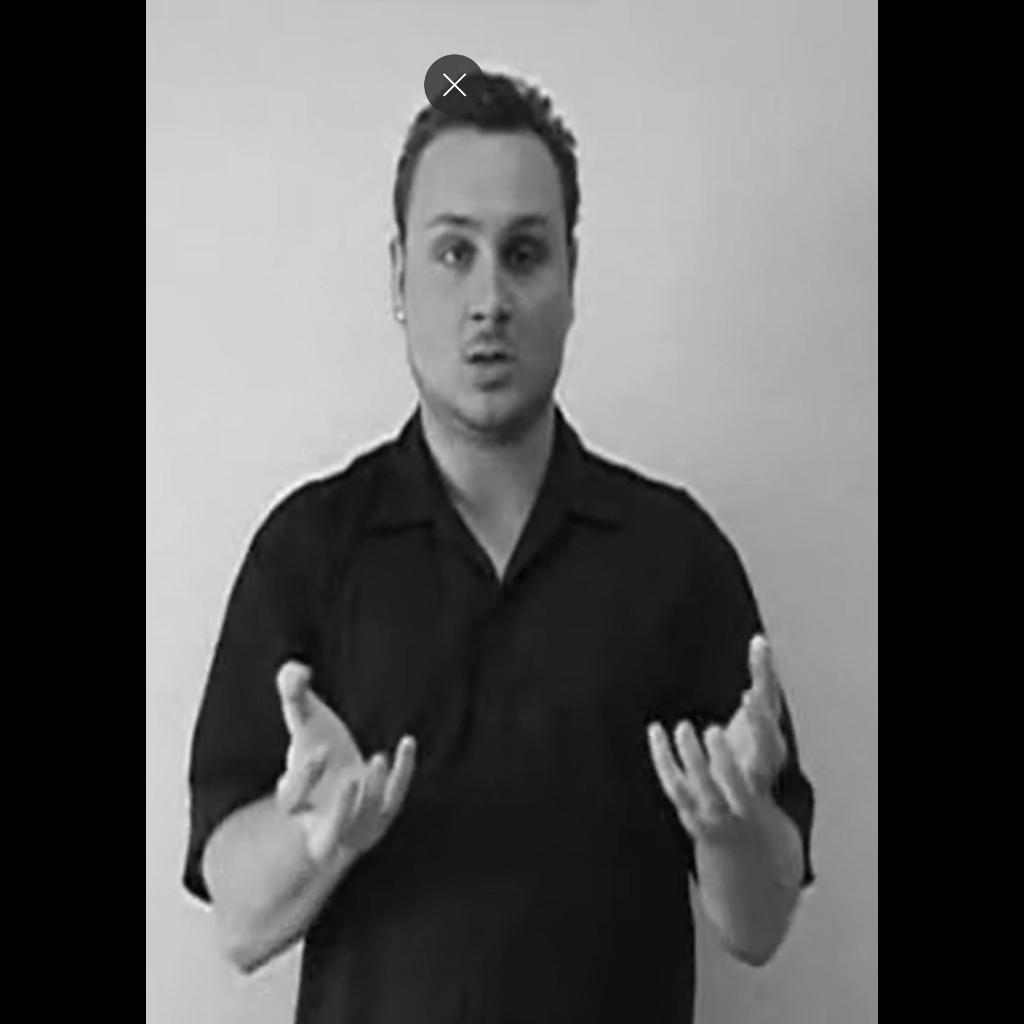want: (278, 638, 788, 858)
